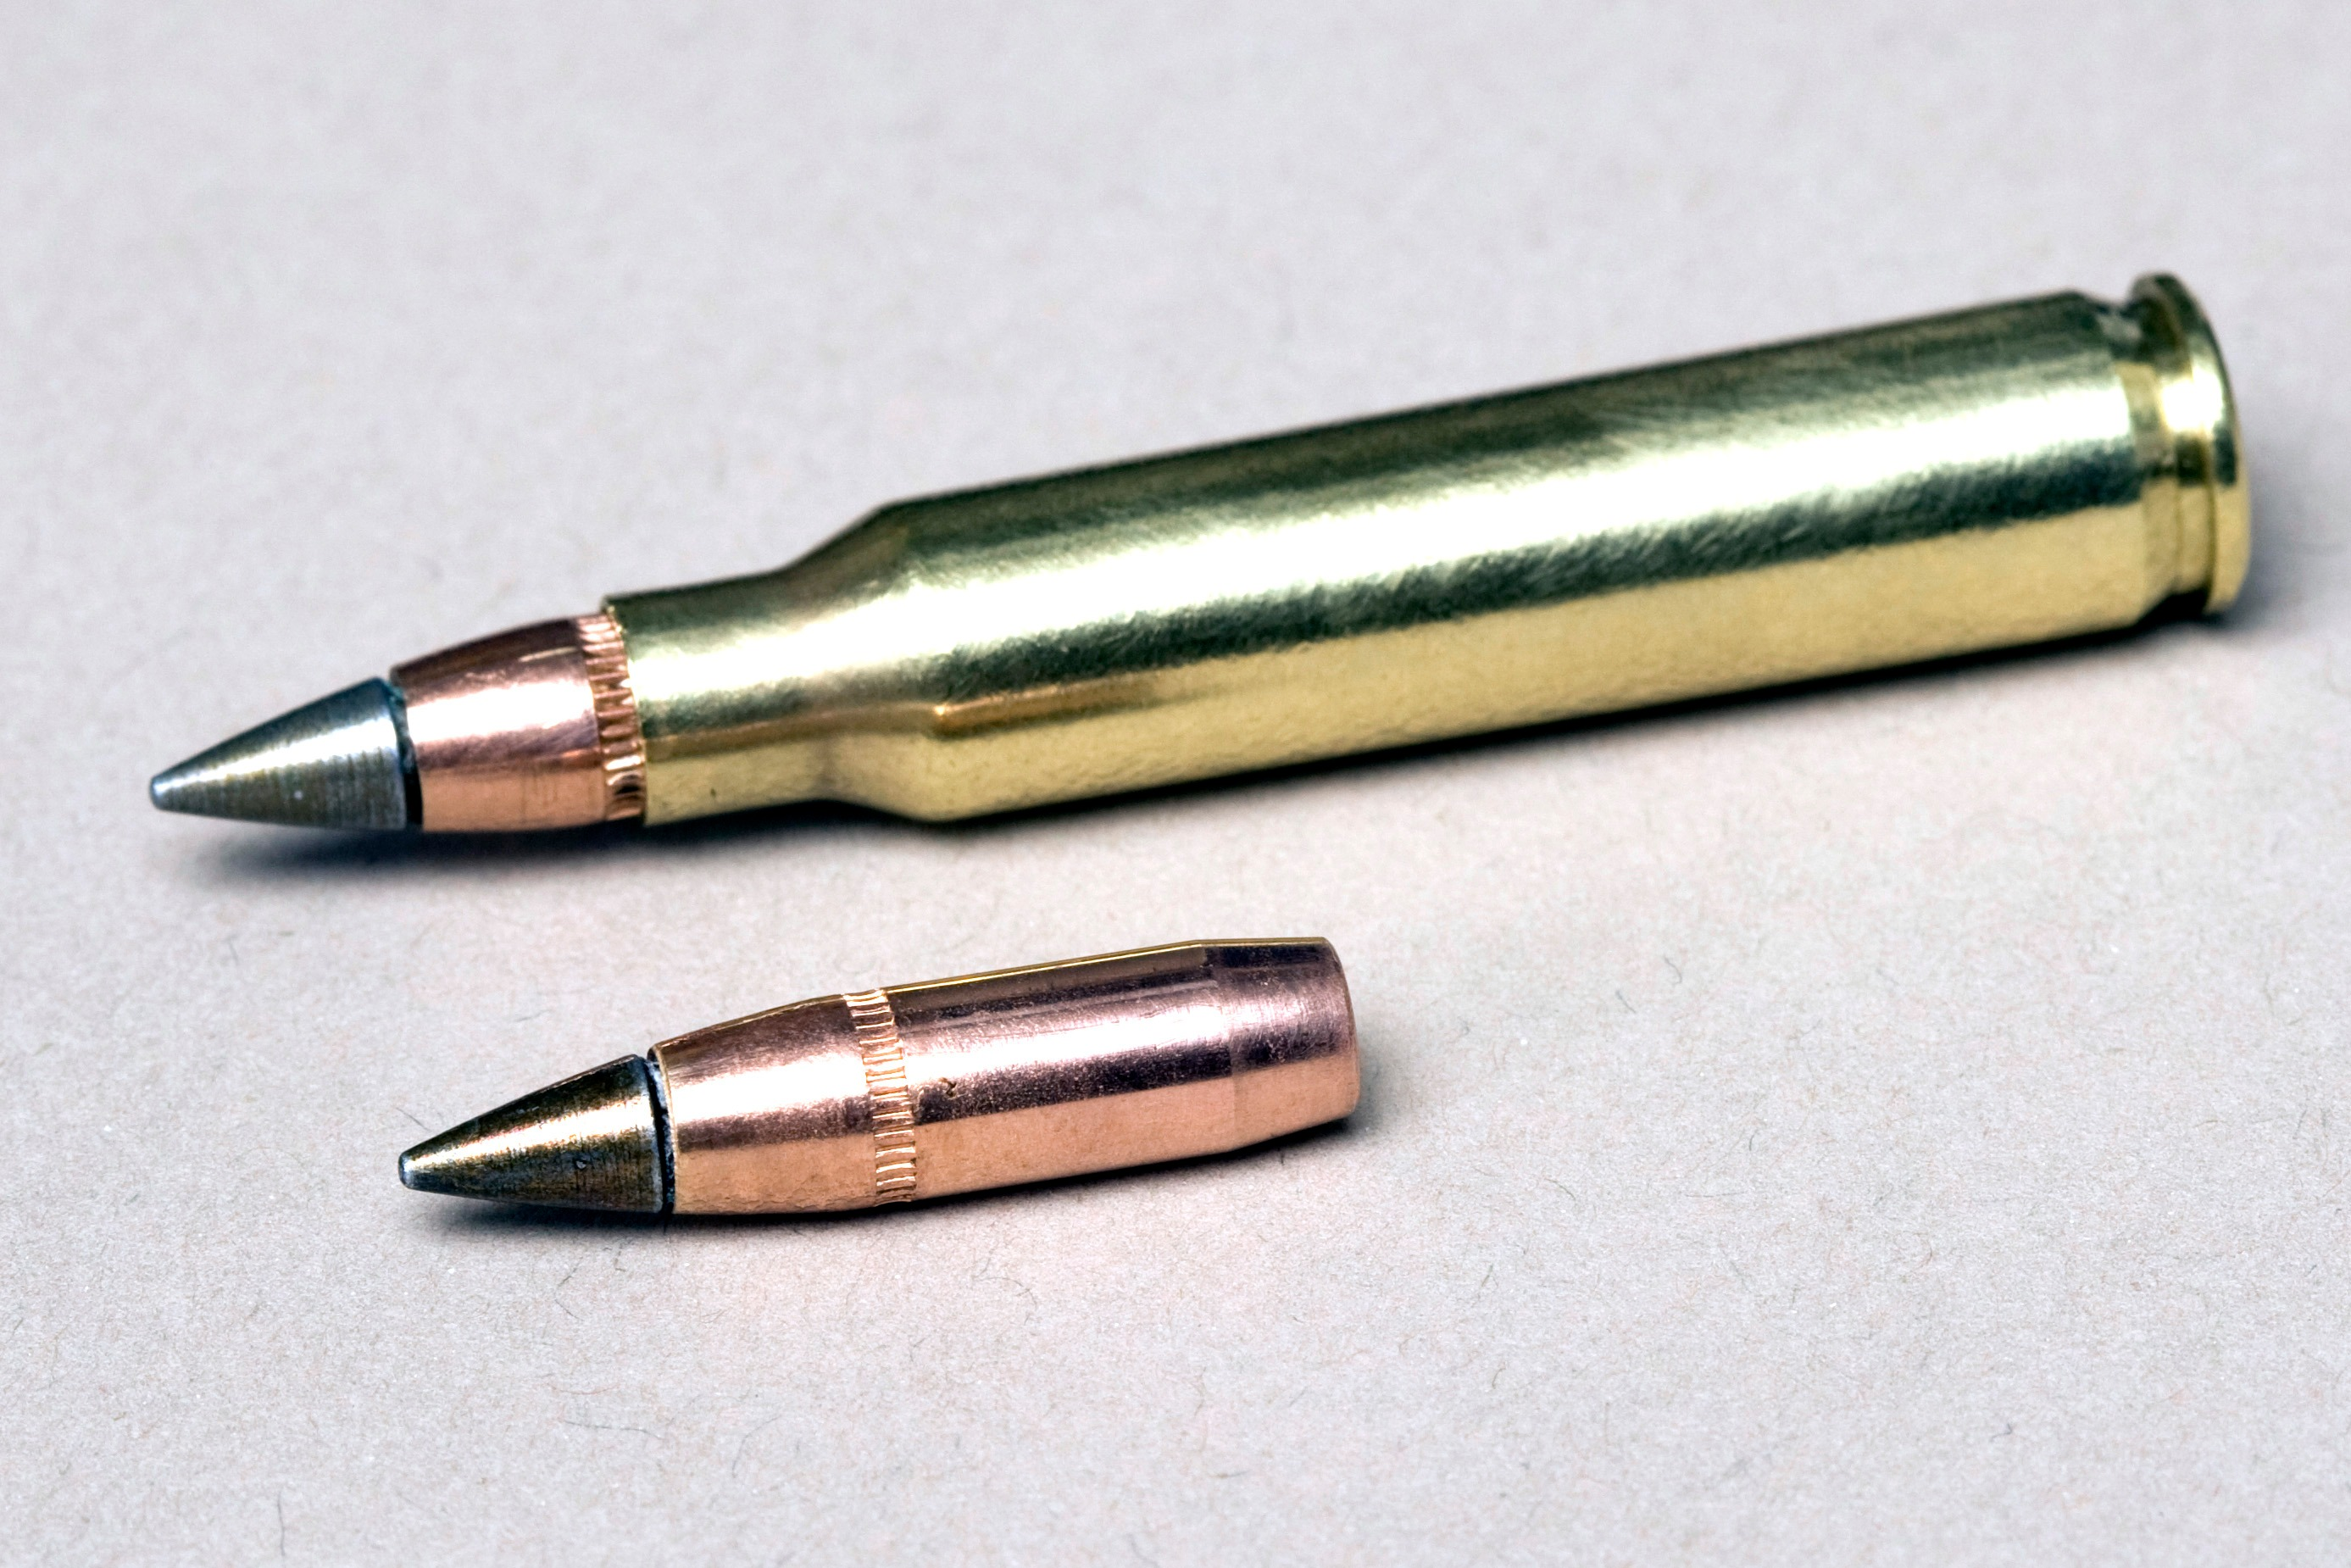bullet: (143, 250, 2260, 870), (380, 920, 1363, 1244)
